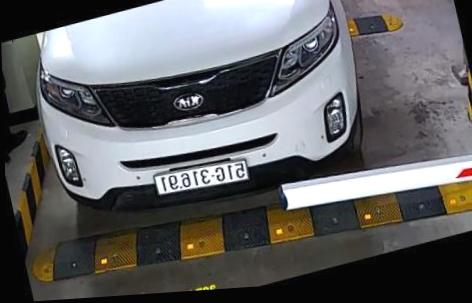License_Plate: (149, 152, 253, 201)
